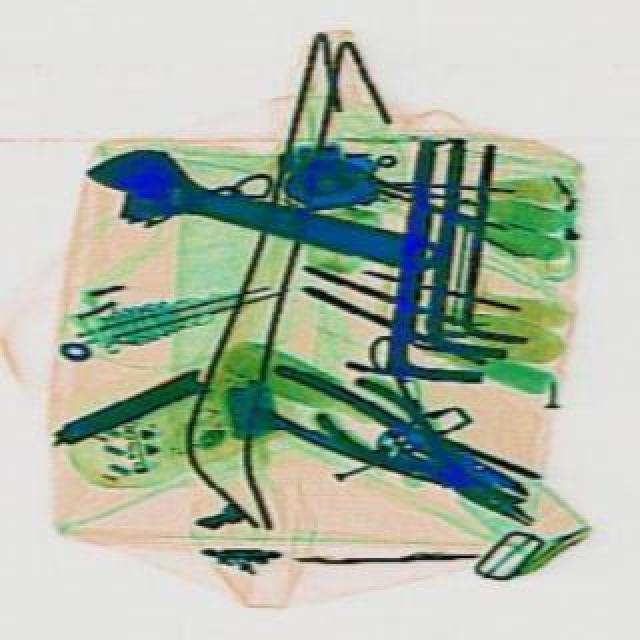scissors: (68, 132, 448, 298)
wrench: (244, 356, 540, 528), (306, 364, 554, 552)
